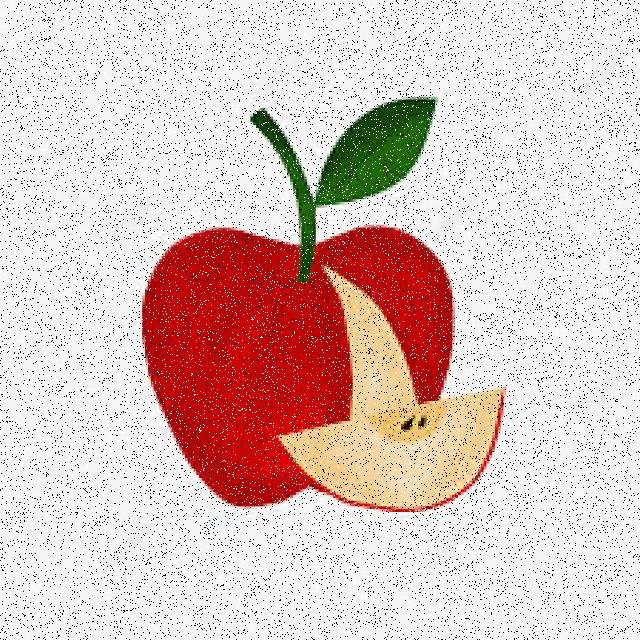Apple: (135, 220, 452, 505), (292, 387, 506, 513)
